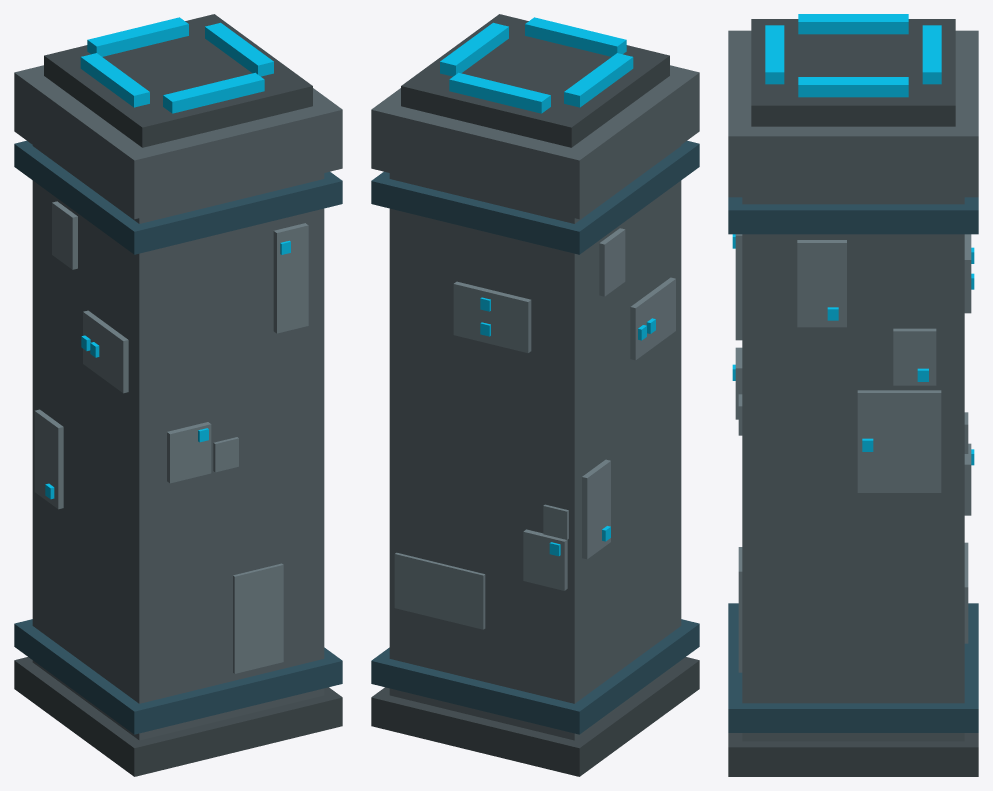
The model's file is Pillar 01.FBX.
3 renders of one model, left to right at view 1: azimuth 30°, elevation 25°; view 2: azimuth 150°, elevation 25°; view 3: azimuth 270°, elevation 25°, orthographic. The views are drawn at different scales.
Parts seen in each view (by area): view 1: Pillar 01; view 2: Pillar 01; view 3: Pillar 01.
Boxes of the visible parts, x1=… form: Pillar 01: x1=14, y1=14, x2=342, y2=776; Pillar 01: x1=371, y1=14, x2=699, y2=776; Pillar 01: x1=728, y1=14, x2=978, y2=776.
Size of the model in its own units: 99.33 by 295 by 99.33.
